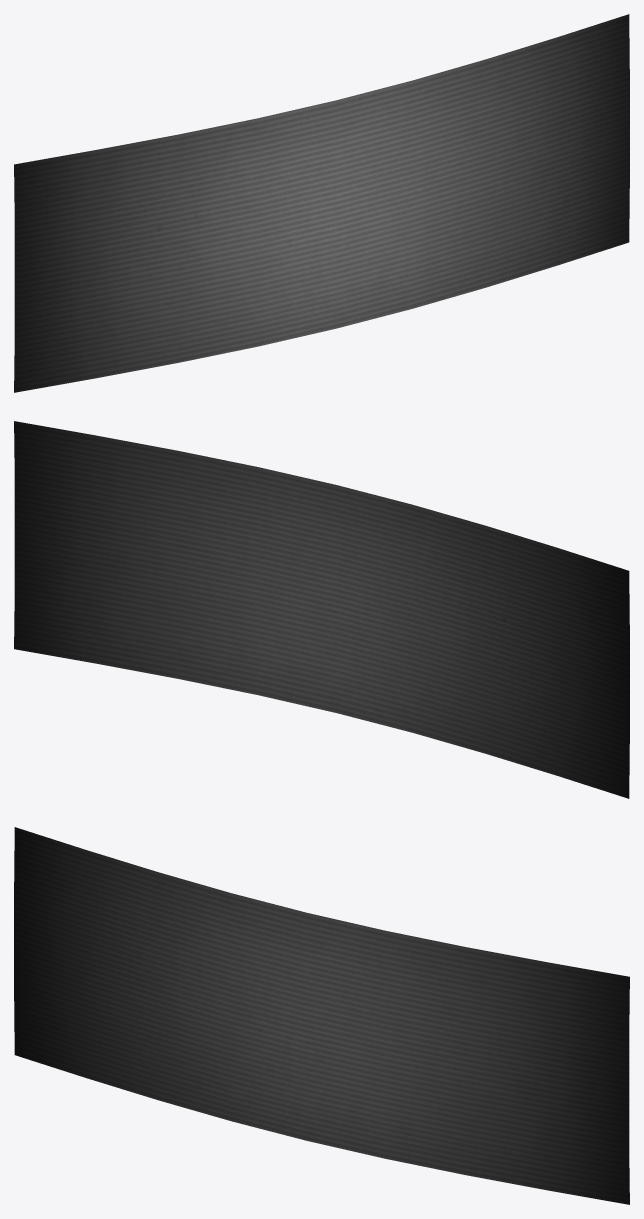
The model's file is SM_PC_2_Screen.fbx.
3 renders of one model, top to bottom at view 1: azimuth 30°, elevation 25°; view 2: azimuth 150°, elevation 25°; view 3: azimuth 330°, elevation 25°, orthographic.
Visible parts, largest first — view 1: SM_PC_2_Screen; view 2: SM_PC_2_Screen; view 3: SM_PC_2_Screen.
Boxes of the visible parts, x1,y1,x2,y2 form: SM_PC_2_Screen: (14,14,629,392); SM_PC_2_Screen: (14,421,629,798); SM_PC_2_Screen: (14,827,629,1204).
Size of the model in its own units: 117 by 41.41 by 5.43.
